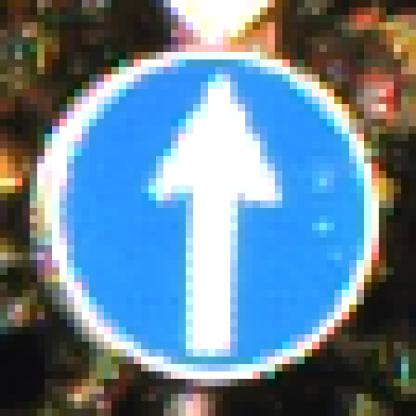AheadOnly: (38, 45, 373, 380)
